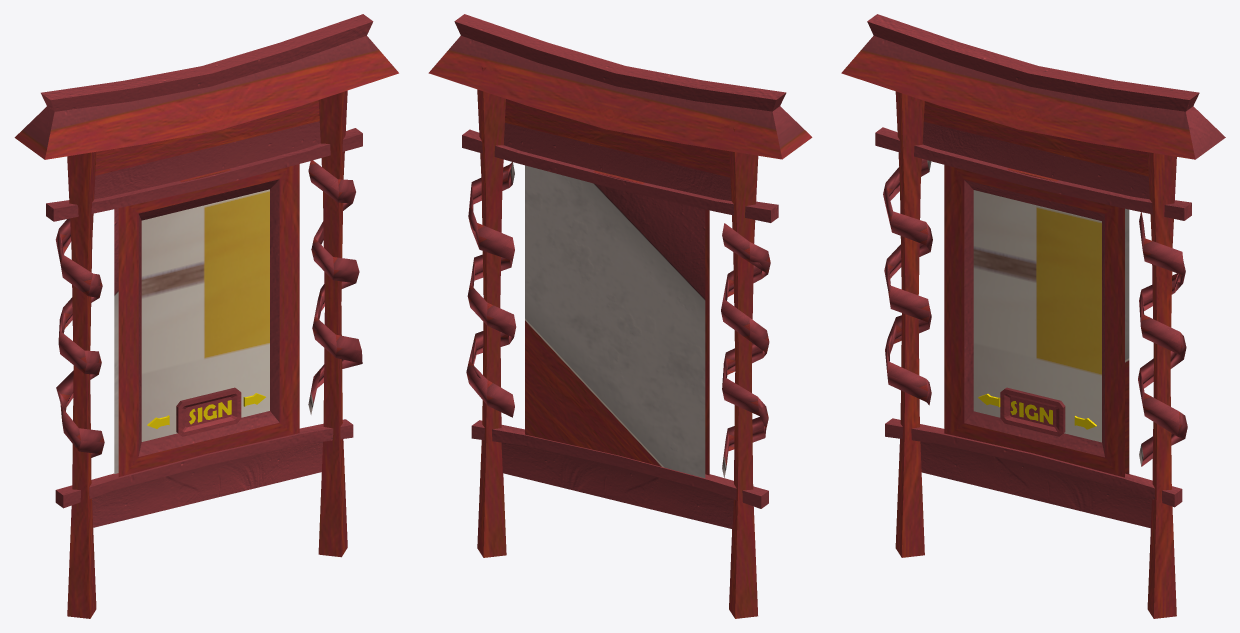
The model's file is Signbook_Art.fbx.
3 views of the same model, side by side, from view 1: azimuth 30°, elevation 25°; view 2: azimuth 150°, elevation 25°; view 3: azimuth 330°, elevation 25° (orthographic).
Visible parts, largest first — view 1: Signbook_Art; view 2: Signbook_Art; view 3: Signbook_Art.
Boxes of the visible parts, box(x1,y1,x2,y2) form: Signbook_Art: box(14, 14, 398, 618); Signbook_Art: box(428, 14, 812, 618); Signbook_Art: box(841, 14, 1225, 618).
Bounding box in the file's own units: 3.7 × 5.25 × 0.5502.
